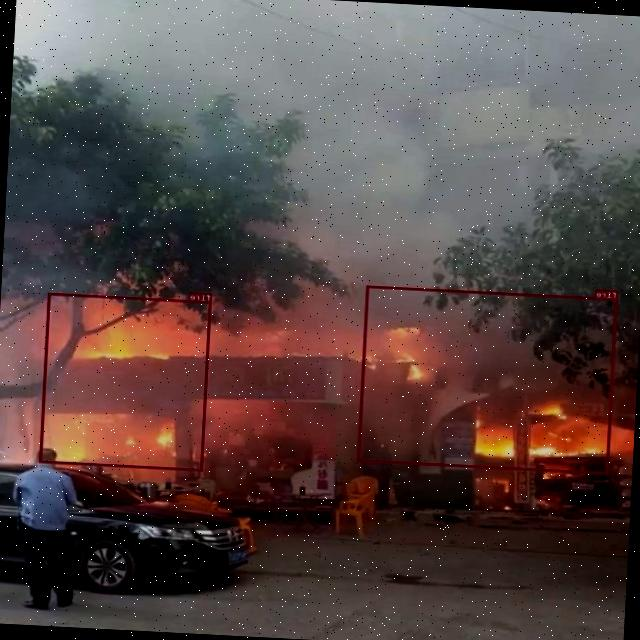fire: (358, 285, 619, 474), (40, 292, 213, 470)
